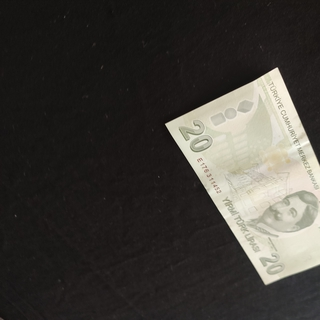20TLBack: (164, 66, 320, 286)
